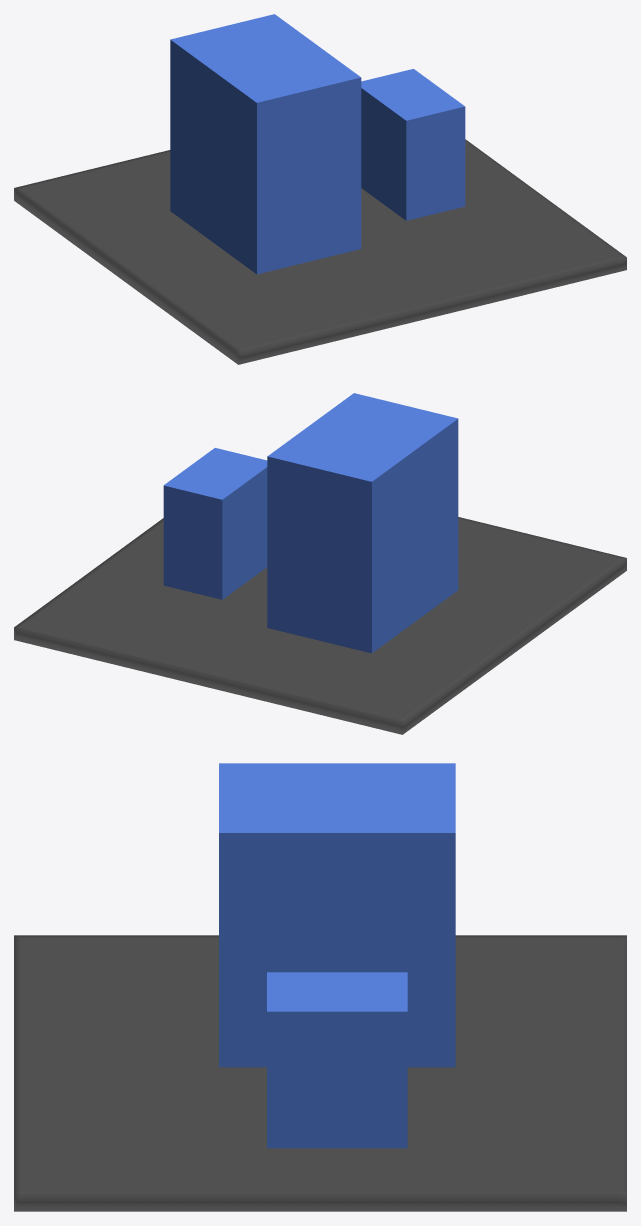
The model's file is sat2lod2_baseline.glb.
3 views of the same model, one above another, from view 1: azimuth 30°, elevation 25°; view 2: azimuth 150°, elevation 25°; view 3: azimuth 270°, elevation 25° (orthographic). The views are drawn at different scales.
Bounding box in the file's own units: 64 × 29 × 64.
